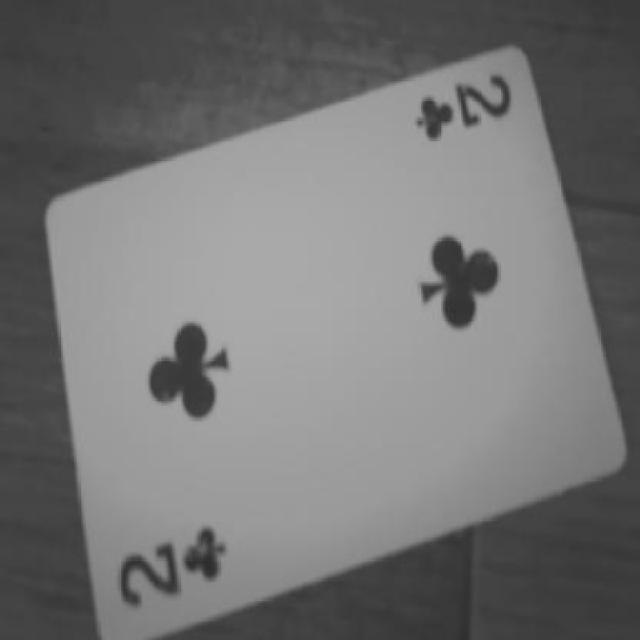2C: (106, 508, 254, 628), (398, 51, 528, 158)
